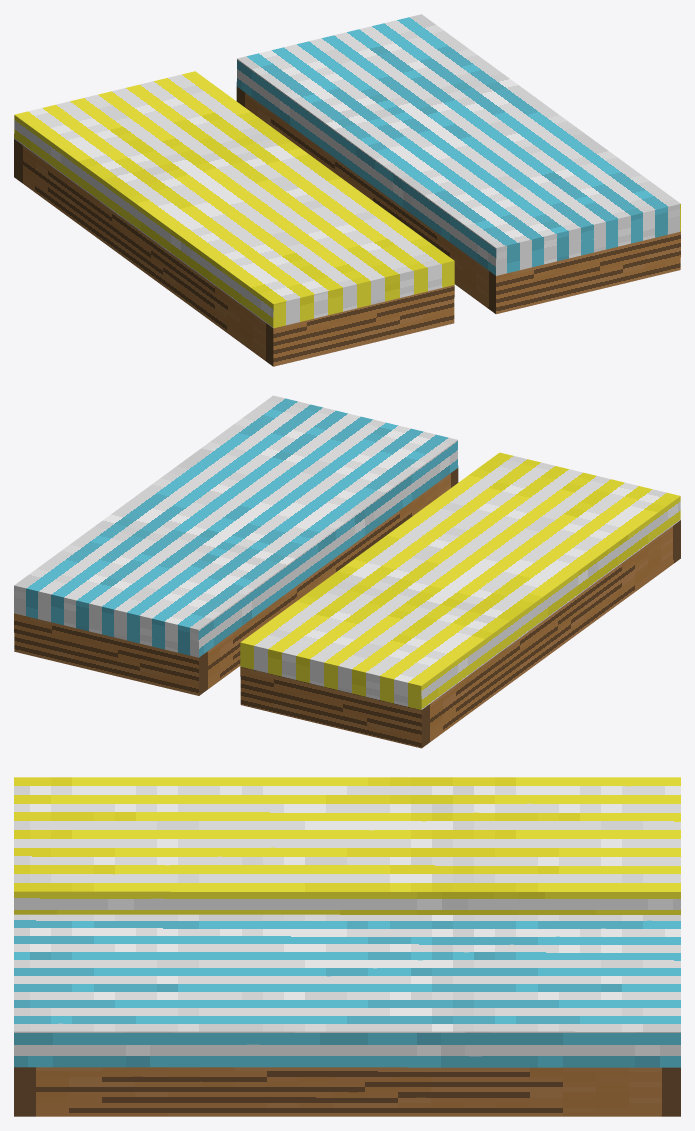
The model's file is BGN_BEACH BEDS.fbx.
The picture shows the model from 3 angles, top to bottom: view 1: azimuth 30°, elevation 25°; view 2: azimuth 150°, elevation 25°; view 3: azimuth 270°, elevation 25°; orthographic projection. The views are drawn at different scales.
Visible parts, largest first — view 1: BGN_BEACH_BEDS; view 2: BGN_BEACH_BEDS; view 3: BGN_BEACH_BEDS.
Boxes of the visible parts, bbox=[...] form: BGN_BEACH_BEDS: bbox=[14, 14, 680, 366]; BGN_BEACH_BEDS: bbox=[14, 395, 680, 748]; BGN_BEACH_BEDS: bbox=[14, 777, 680, 1116].
Bounding box in the file's own units: 204 × 32.01 × 224.
1 material, 1 textured.
